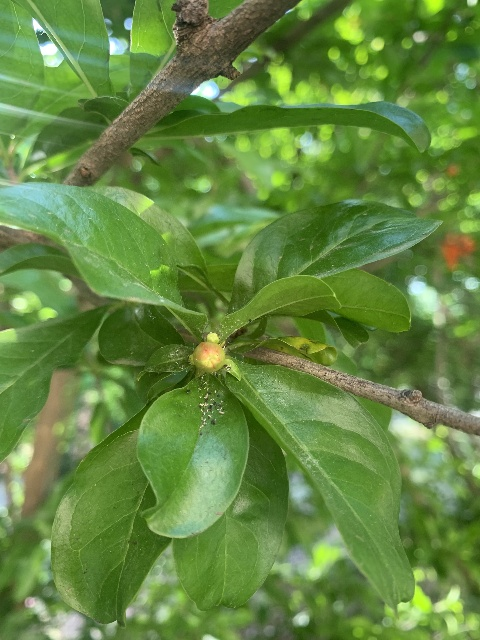bud: (192, 342, 225, 373)
